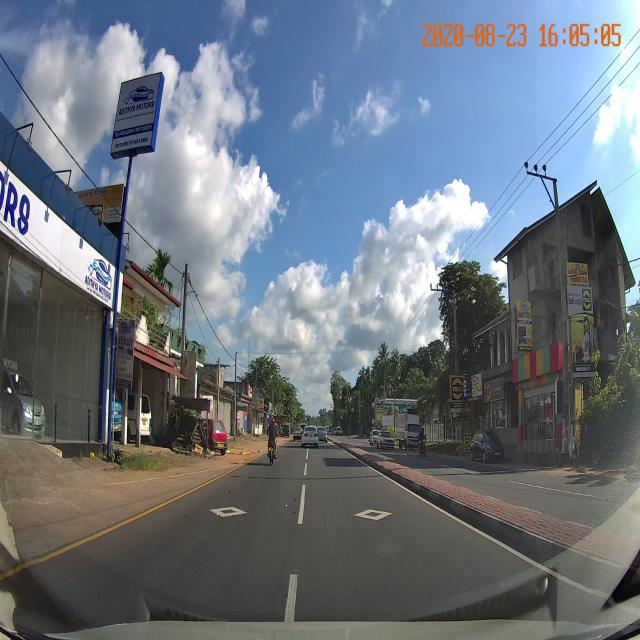diamond: (149, 484, 309, 553)
